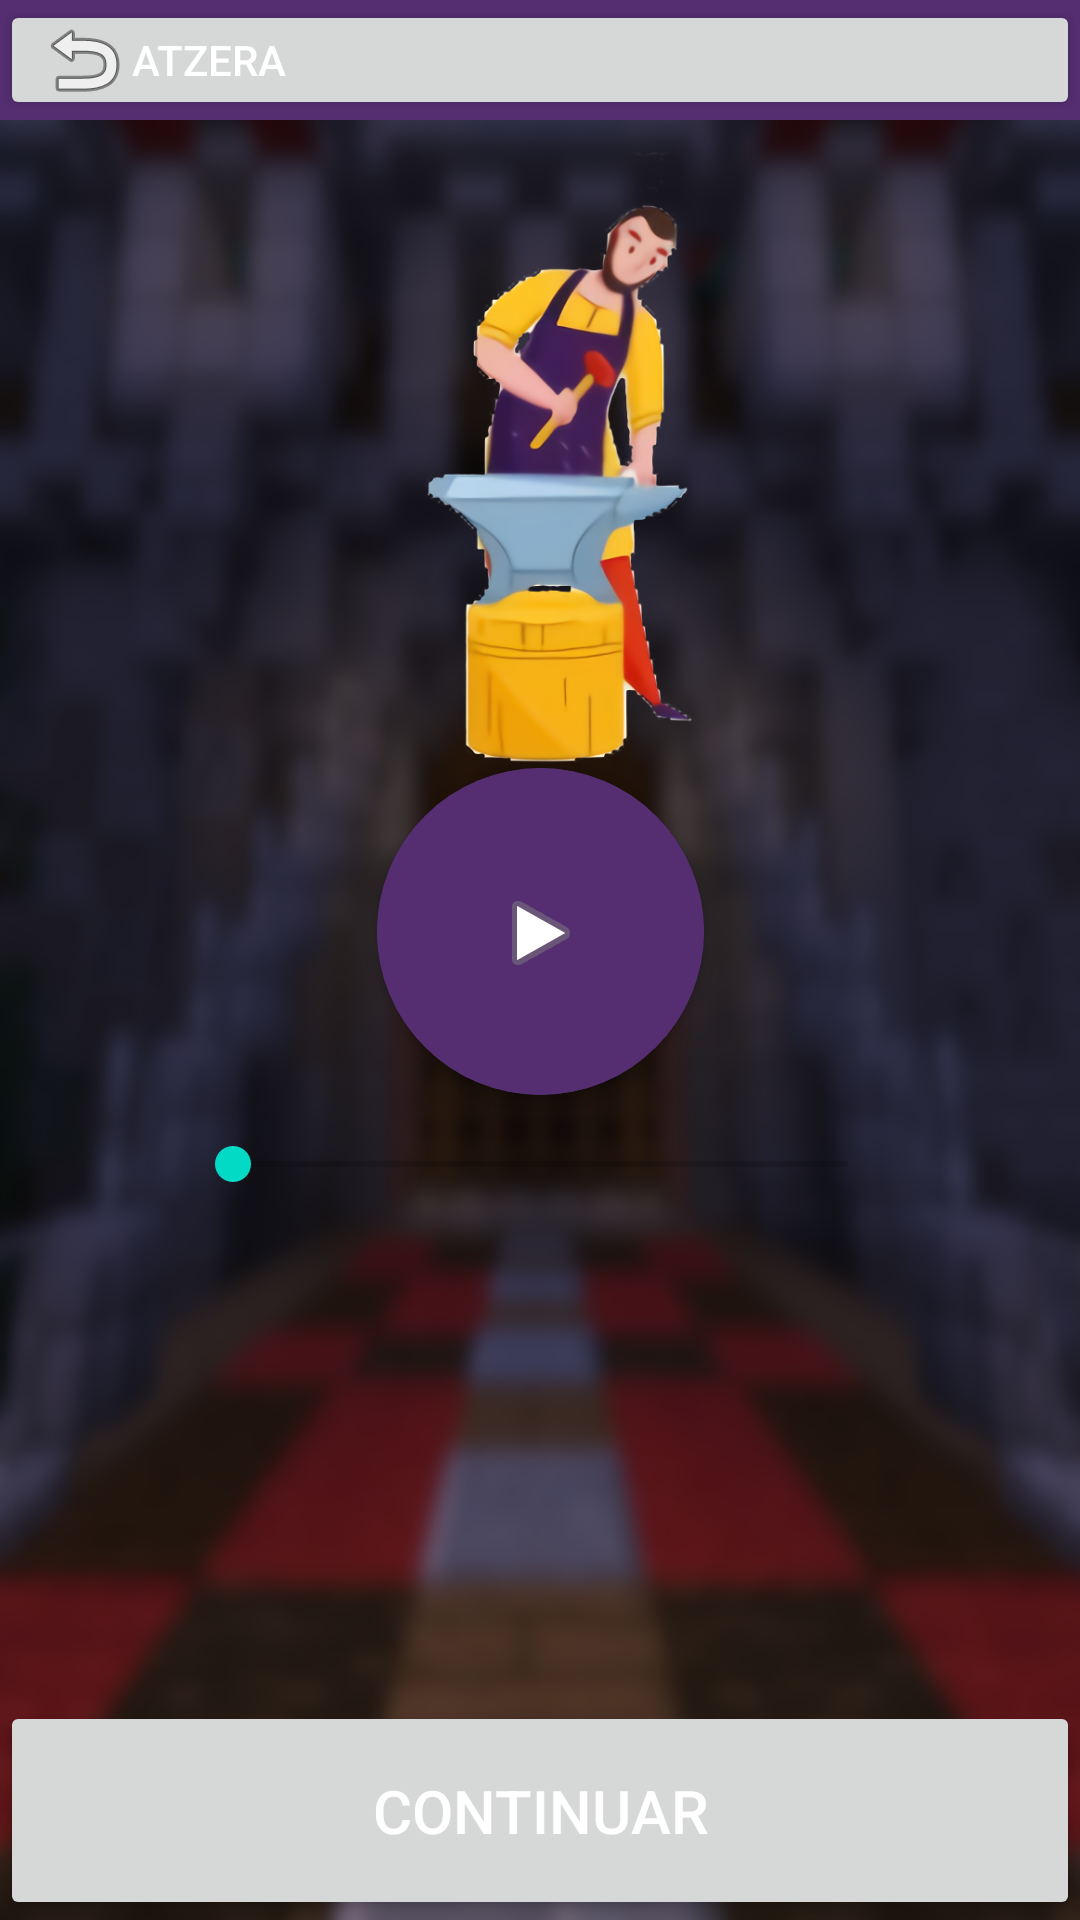

Icon bounding boxes for this 1080 x 1920 phone screenshot, format box=[x1, y1, x2, y2]:
play: box=[377, 768, 704, 1095]
